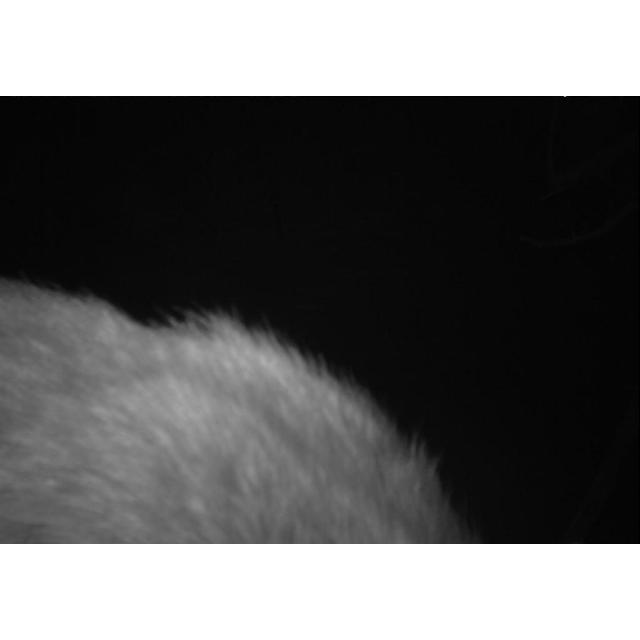animals: (0, 272, 490, 544)
